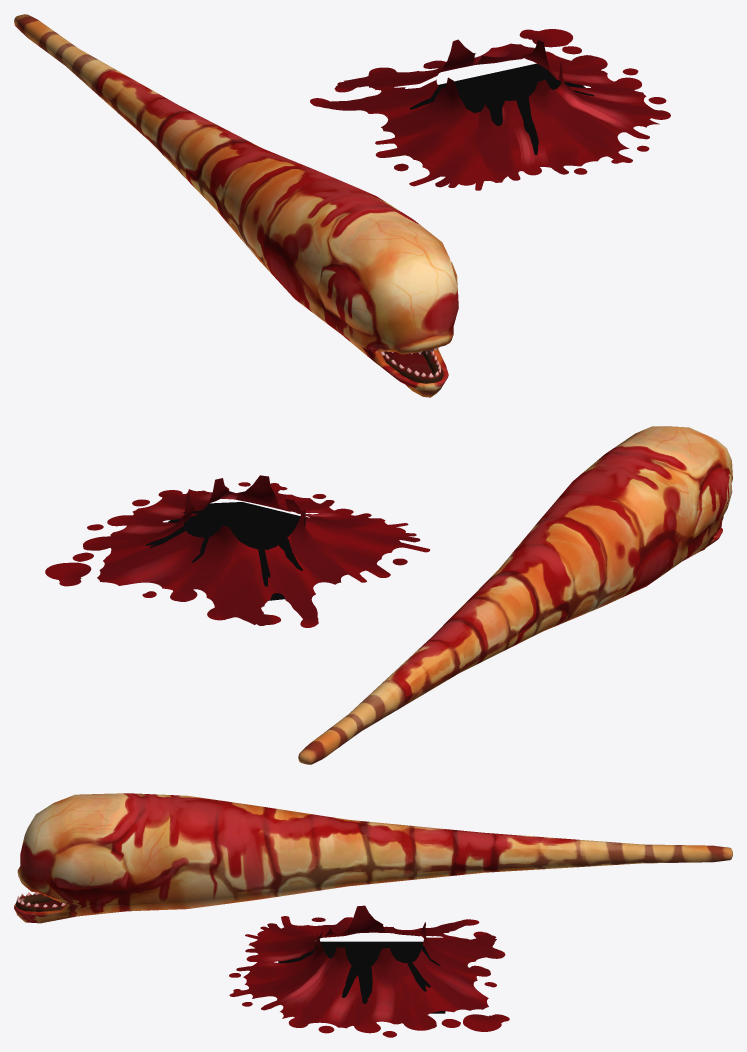
Rendered from Alien+Tshirt.FBX.
3 views of the same model, one above another, from view 1: azimuth 30°, elevation 25°; view 2: azimuth 150°, elevation 25°; view 3: azimuth 270°, elevation 25° (orthographic). The views are drawn at different scales.
Parts seen in each view (by area): view 1: Corps, Tshirt; view 2: Corps, Tshirt; view 3: Corps, Tshirt.
Boxes of the visible parts, box(x1,y1,x2,y2) form: Corps: box(14, 14, 458, 397); Tshirt: box(310, 29, 670, 190); Corps: box(298, 426, 732, 764); Tshirt: box(45, 475, 429, 627); Corps: box(14, 793, 732, 923); Tshirt: box(229, 905, 509, 1037).
Bounding box in the file's own units: 1.61 × 0.4617 × 2.44.
Materials: 3 (2 with a texture image).
